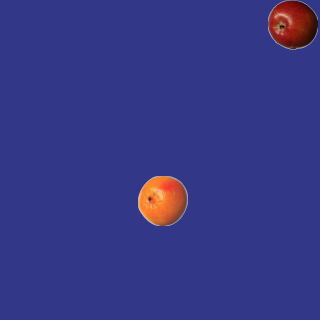Apple Braeburn: (267, 0, 317, 49)
Grapefruit Pink: (137, 175, 187, 225)
